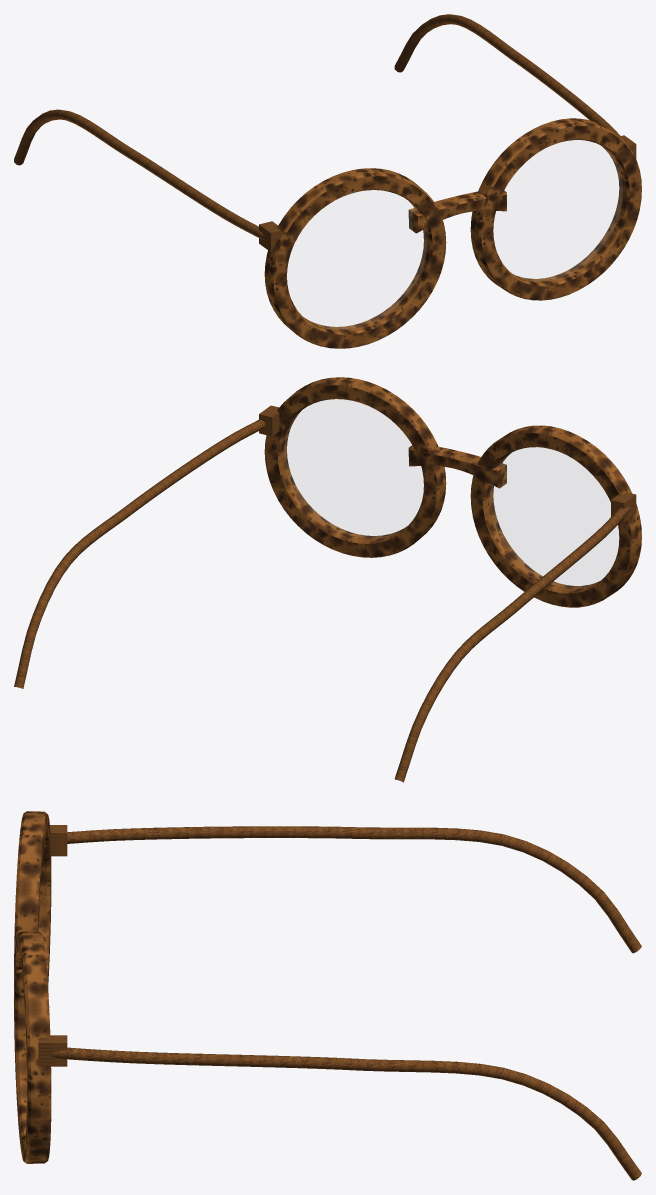
Rendered from BM-M09_Indus_Havana_tortoise.glb.
The picture shows the model from 3 angles, top to bottom: view 1: azimuth 30°, elevation 25°; view 2: azimuth 150°, elevation 25°; view 3: azimuth 270°, elevation 25°; orthographic projection. The views are drawn at different scales.
Visible parts, largest first — view 1: Indus_Havana_tortoise_Acetate, Indus_Havana_tortoise_Lenses; view 2: Indus_Havana_tortoise_Acetate, Indus_Havana_tortoise_Lenses; view 3: Indus_Havana_tortoise_Acetate.
Boxes of the visible parts, x1=… form: Indus_Havana_tortoise_Acetate: x1=14, y1=14, x2=641, y2=348; Indus_Havana_tortoise_Lenses: x1=287, y1=140, x2=622, y2=328; Indus_Havana_tortoise_Acetate: x1=14, y1=377, x2=641, y2=782; Indus_Havana_tortoise_Lenses: x1=284, y1=399, x2=618, y2=587; Indus_Havana_tortoise_Acetate: x1=14, y1=811, x2=641, y2=1180.
Bounding box in the file's own units: 0.1383 × 0.0566 × 0.1537.
Materials: 2 (1 with a texture image).
